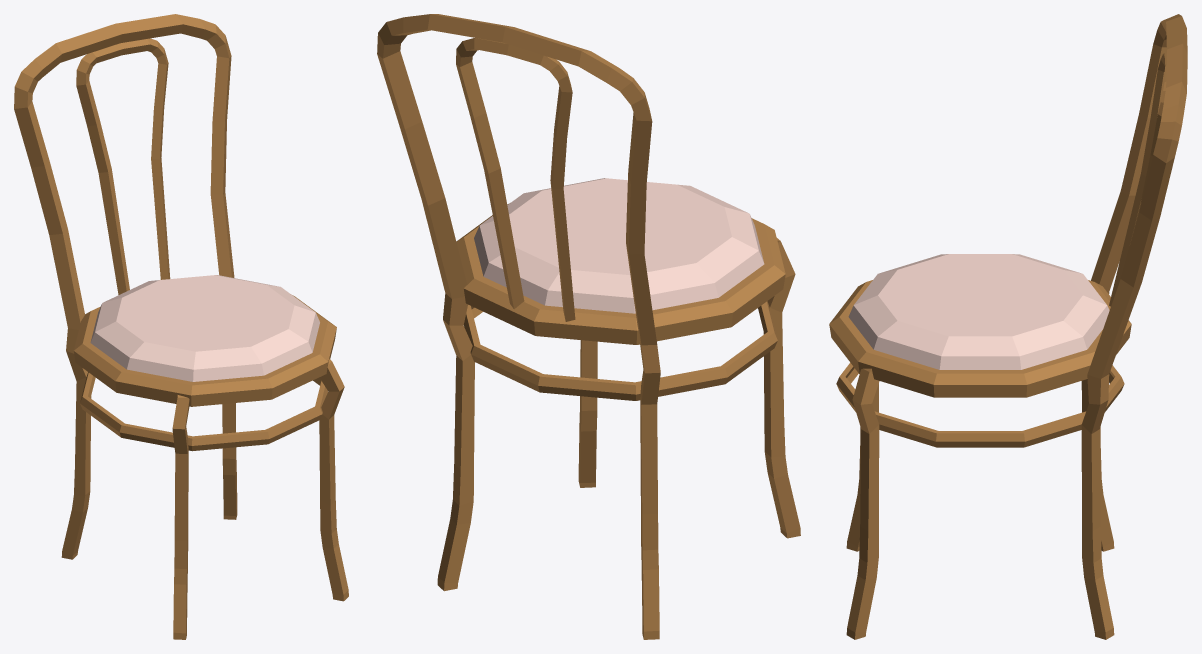
File: Chair.glb
The picture shows the model from 3 angles, left to right: view 1: azimuth 30°, elevation 25°; view 2: azimuth 150°, elevation 25°; view 3: azimuth 270°, elevation 25°; orthographic projection. The views are drawn at different scales.
Visible parts, largest first — view 1: Chair; view 2: Chair; view 3: Chair.
Part boxes in pixels (<box>): Chair: <box>14,14,348,639</box>; Chair: <box>377,14,800,639</box>; Chair: <box>829,14,1187,639</box>.
Bounding box in the file's own units: 0.5072 × 1.07 × 0.6321.
